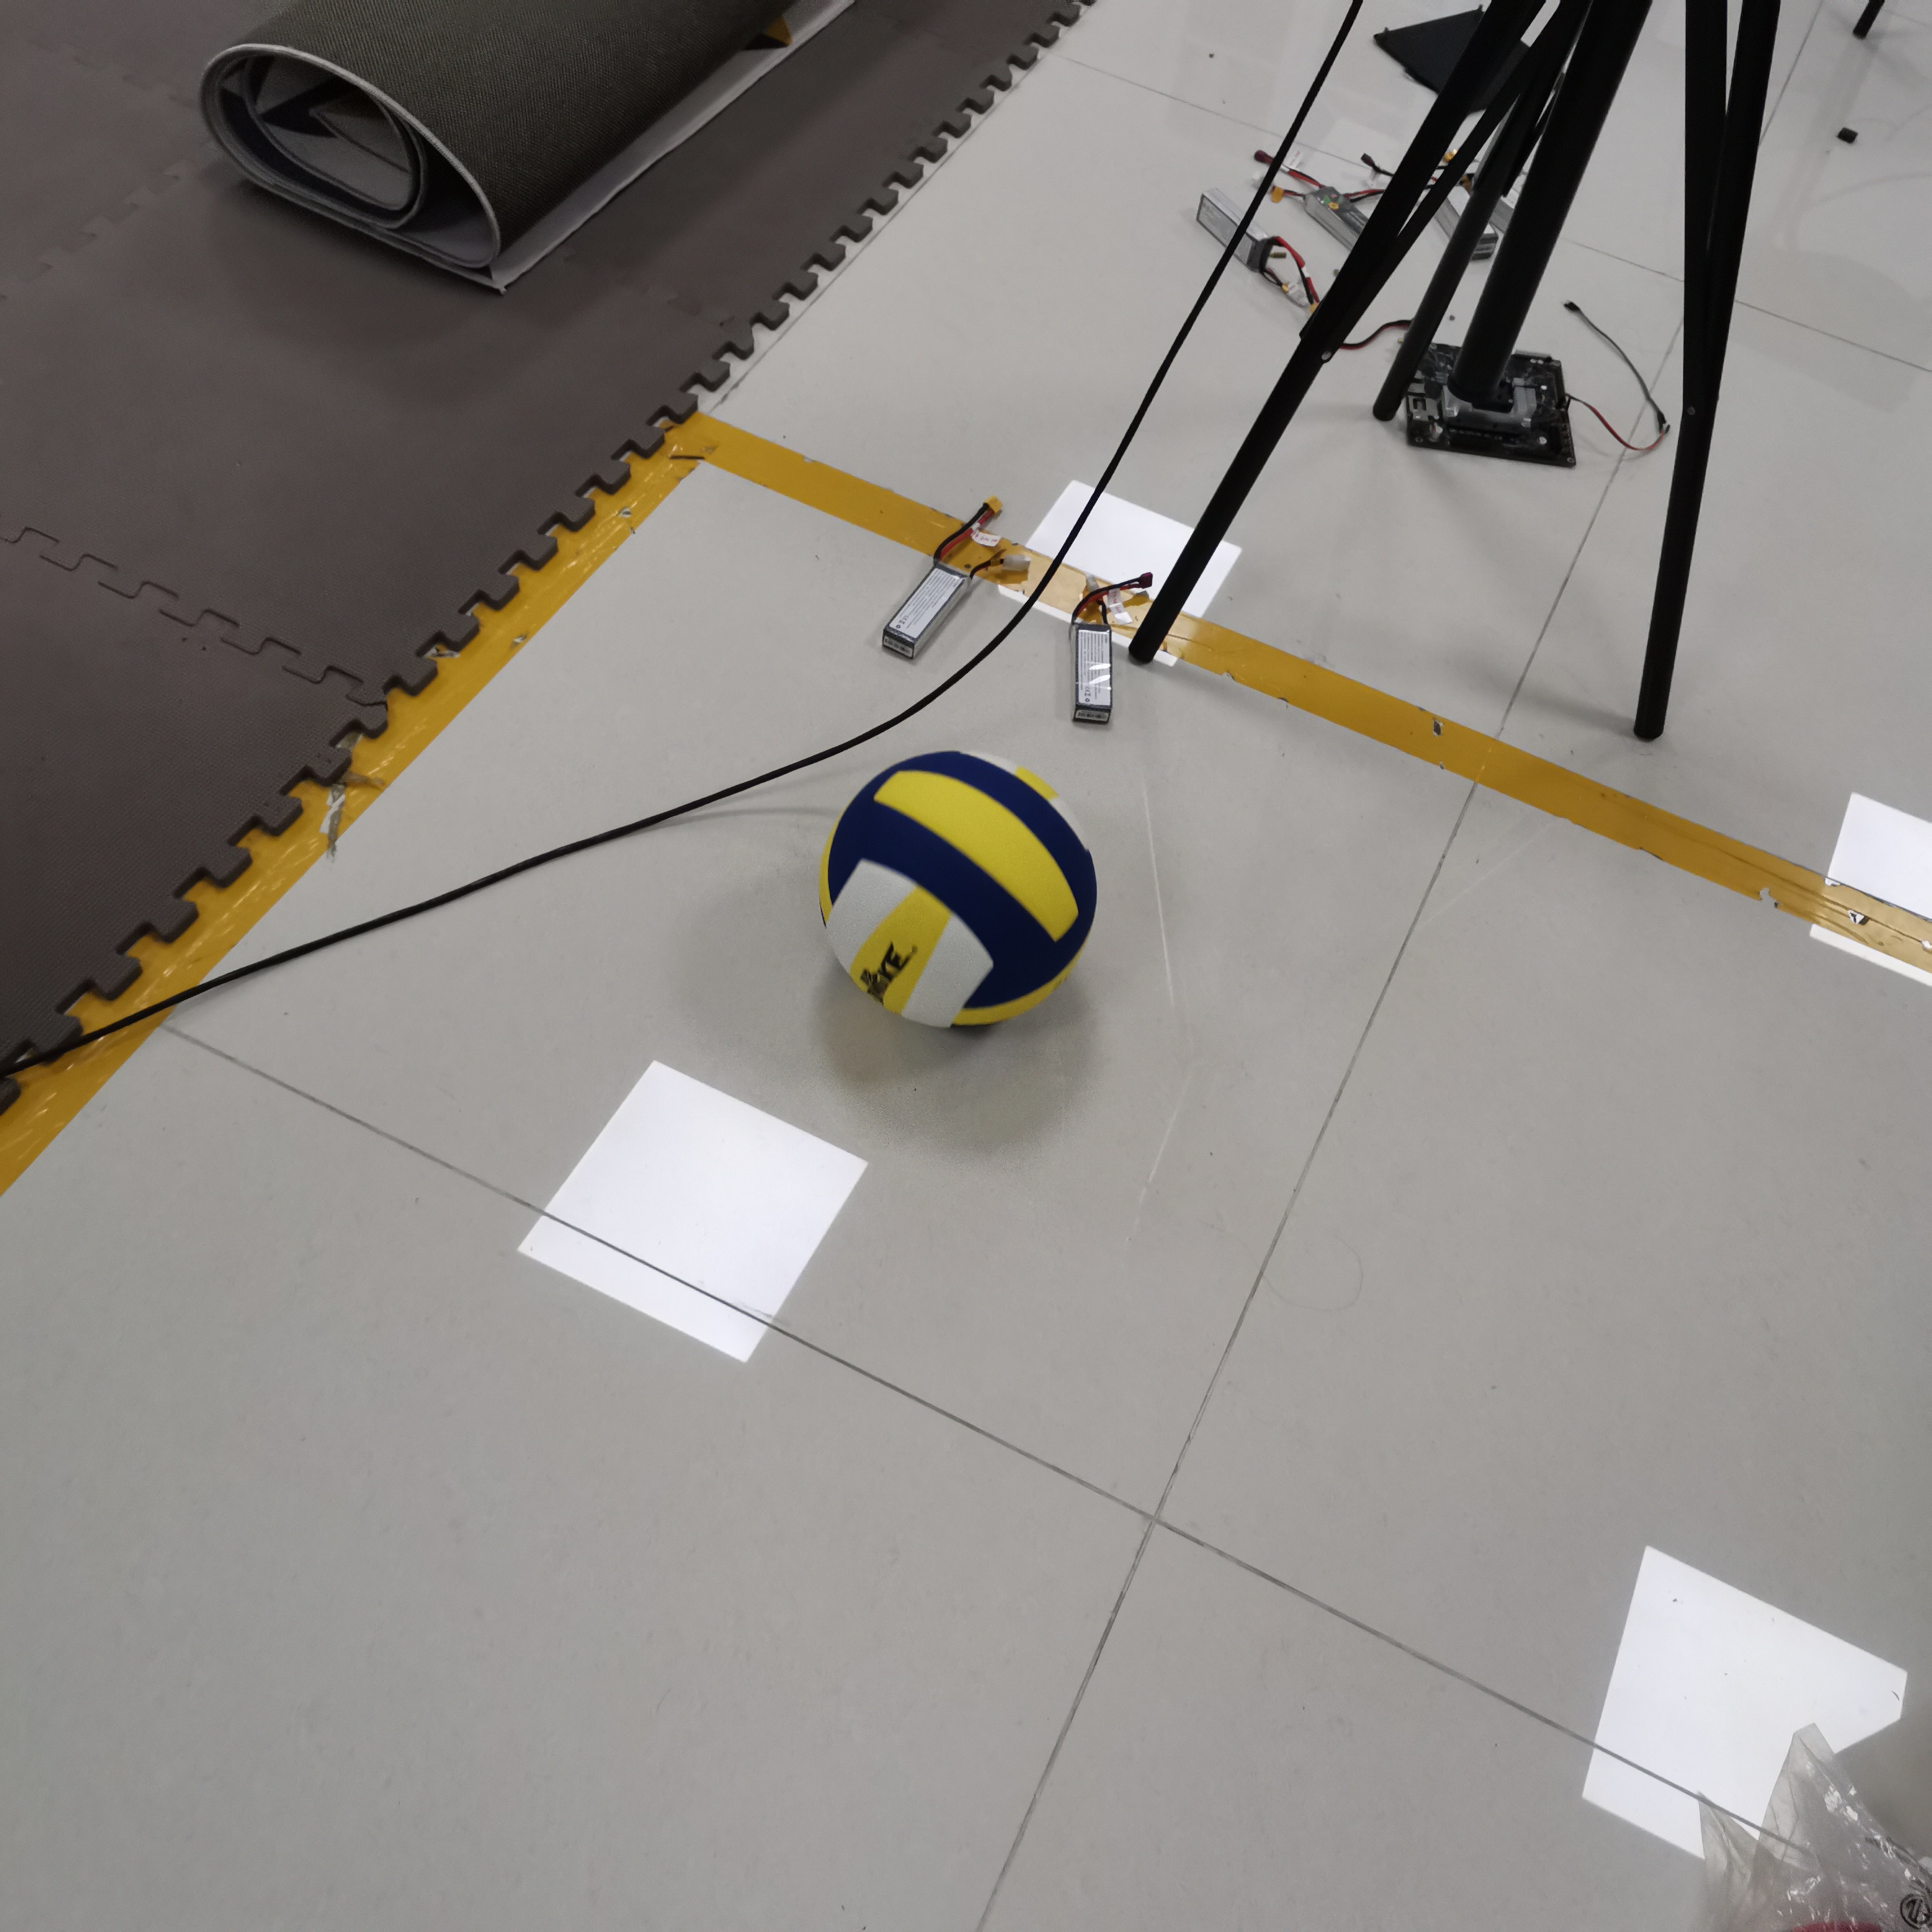volleyball: (824, 750, 1100, 1040)
